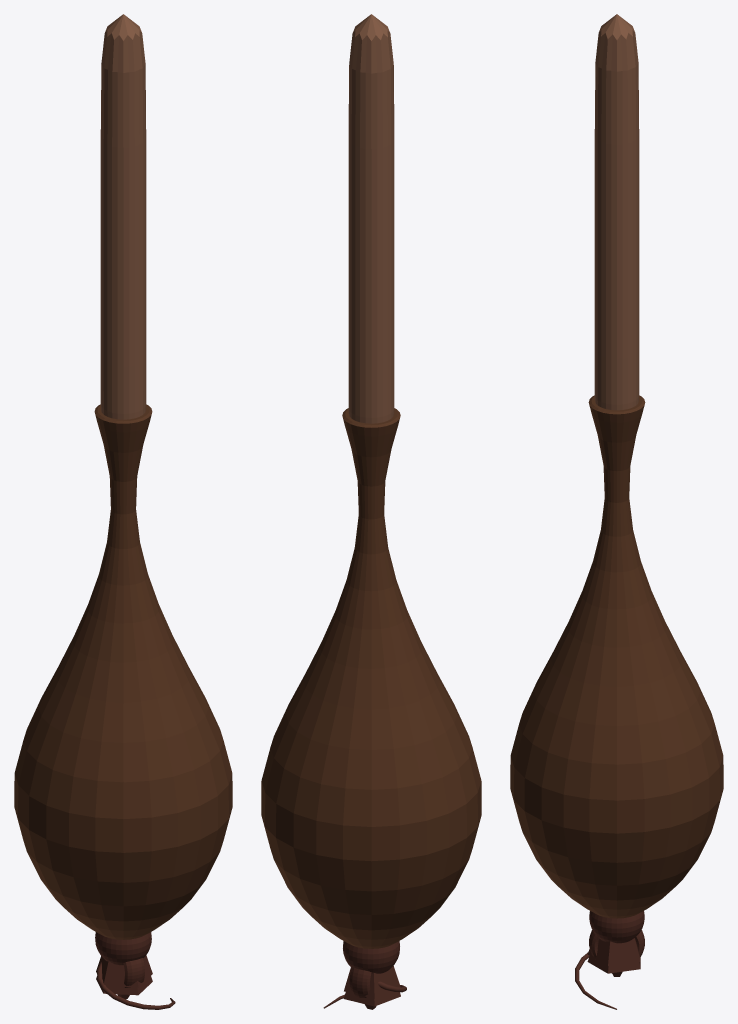
File: Wand 918.glb
The picture shows the model from 3 angles, left to right: view 1: azimuth 30°, elevation 25°; view 2: azimuth 150°, elevation 25°; view 3: azimuth 270°, elevation 25°; orthographic projection. The views are drawn at different scales.
Visible parts, largest first — view 1: GeneratedWand, Pommel_4, Pommel_10; view 2: GeneratedWand, Pommel_4, Pommel_2; view 3: GeneratedWand, Pommel_4.
Part boxes in pixels (left/top/right/bottom): GeneratedWand: left=14, top=14, right=232, bottom=987; Pommel_4: left=95, top=932, right=151, bottom=965; Pommel_10: left=97, top=962, right=175, bottom=1009; GeneratedWand: left=261, top=14, right=481, bottom=998; Pommel_4: left=343, top=941, right=399, bottom=973; Pommel_2: left=349, top=967, right=371, bottom=997; GeneratedWand: left=510, top=14, right=723, bottom=966; Pommel_4: left=589, top=911, right=644, bottom=943.
Bounding box in the file's own units: 0.1026 × 0.5162 × 0.1026.
